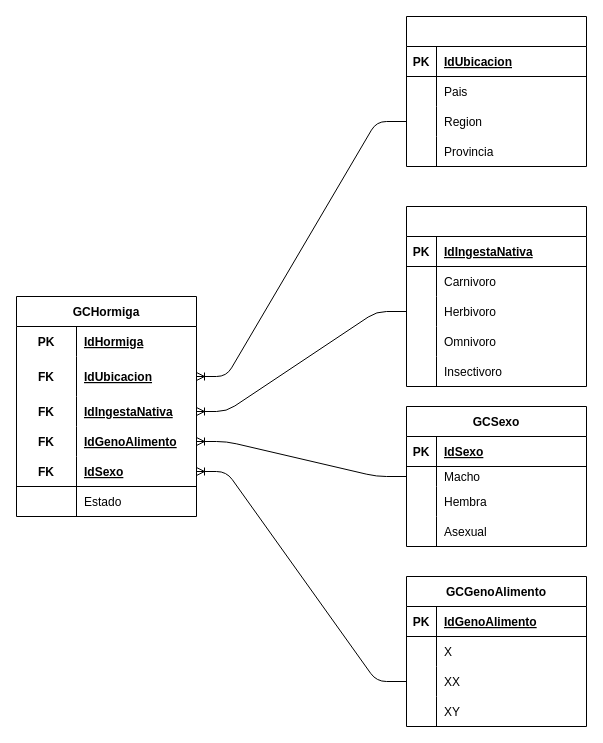
The diagram is 603 pixels wide and 743 high, and some of its shapes have lost their labels. Each missing label, with the box of its shape:
GCIngestaNativa: (406, 206, 586, 386)
GCUbicacion: (406, 16, 586, 166)
